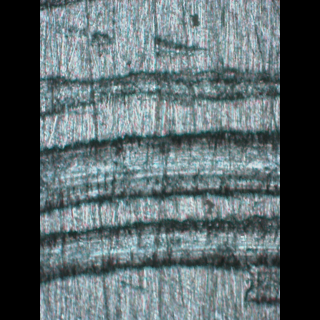d: (40, 51, 280, 295)
